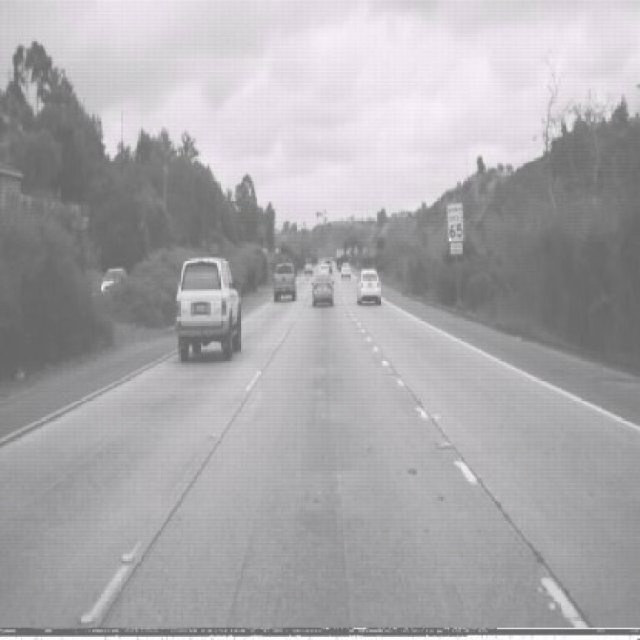speedLimit65: (446, 200, 465, 243)
